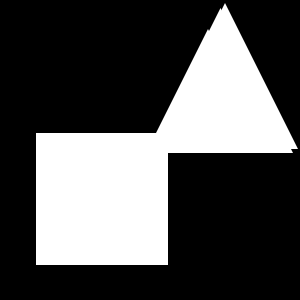circle: (36, 133, 168, 265)
triangle: (152, 3, 298, 149), (148, 8, 293, 153), (153, 29, 263, 139), (196, 73, 260, 137)
